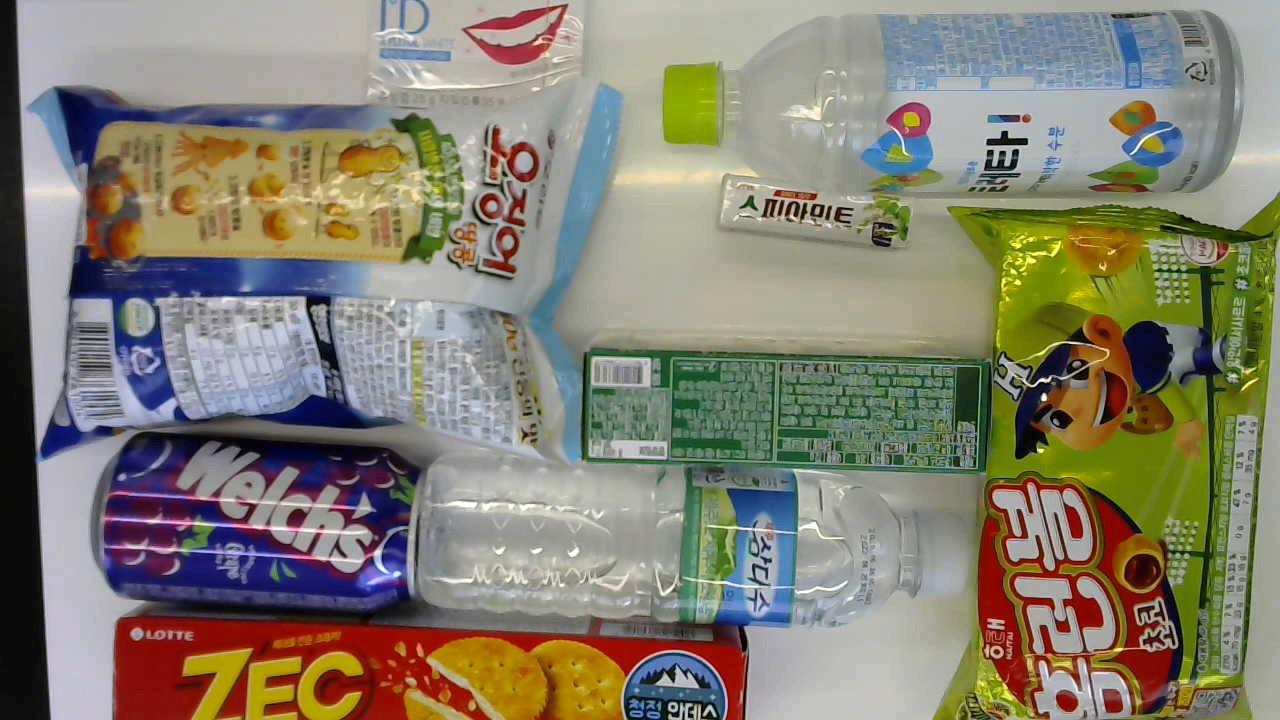ID_gum: (361, 0, 584, 103)
couque_coffee: (577, 318, 993, 477)
homerunball: (944, 203, 1259, 720)
samdasu: (415, 456, 1019, 634)
spearmint: (713, 170, 924, 258)
squid_peanut: (30, 79, 621, 465)
toreta: (654, 8, 1238, 198)
welchs: (93, 435, 420, 621)
zec: (106, 589, 752, 720)
